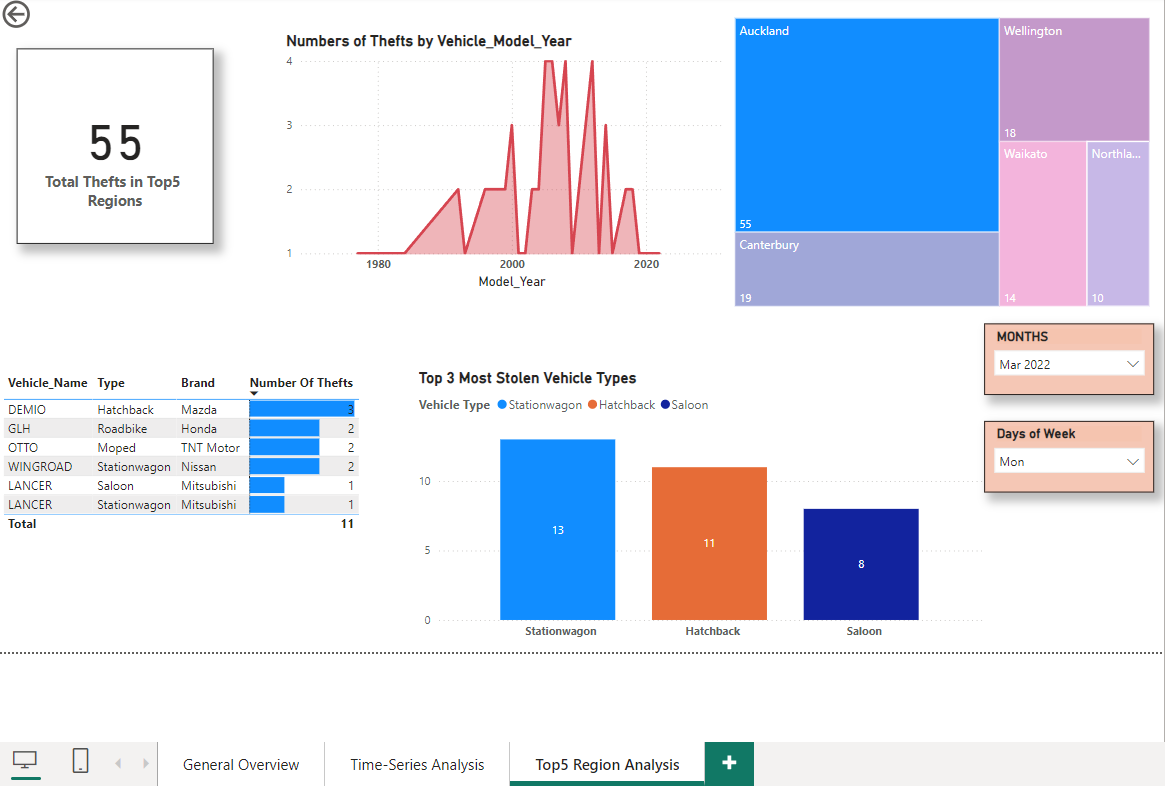

The page's visual inventory and layout, read from the dashboard file:
{"tool":"powerbi","page":{"name":"Top5 Region Analysis","canvas":[1280,720],"ordinal":2},"visuals":[{"type":"treemap","fields":{"Group":["stolen_vehicles_db locations.region"],"Values":["CountNonNull(stolen_vehicles_db stolen_vehicles.vehicle_id)"]},"box":[804.1,19.2,465.2,326.6],"z":0},{"type":"columnChart","title":"Top 3 Most Stolen Vehicle Types","fields":{"Category":["stolen_vehicles_db stolen_vehicles.vehicle_type","stolen_vehicles_db stolen_vehicles.vehicle_desc"],"Y":["CountNonNull(stolen_vehicles_db stolen_vehicles.vehicle_id)"],"Series":["stolen_vehicles_db stolen_vehicles.vehicle_type"]},"box":[456.9,408.9,632.6,306],"z":1000},{"type":"tableEx","fields":{"Values":["stolen_vehicles_db stolen_vehicles.vehicle_desc","stolen_vehicles_db stolen_vehicles.vehicle_type","stolen_vehicles_db make_details.make_name","stolen_vehicles_db stolen_vehicles.Number Of Thefts"]},"box":[0,408.9,403.4,295],"z":2000},{"type":"card","fields":{"Values":["stolen_vehicles_db stolen_vehicles.Number Of Thefts"]},"box":[20,57.1,215.7,214.3],"z":3000},{"type":"slicer","fields":{"Values":["Date.Year Month","Date.Day of Week"]},"box":[1082.7,359.5,186.6,78.2],"z":4000},{"type":"areaChart","fields":{"Category":["stolen_vehicles_db stolen_vehicles.model_year"],"Y":["CountNonNull(stolen_vehicles_db stolen_vehicles.vehicle_id)"]},"box":[311.5,38.4,492.6,288.2],"z":5000},{"type":"actionButton","box":[0,0,100,40],"z":6000},{"type":"slicer","fields":{"Values":["Date.Day of Week"]},"box":[1082.7,466.6,186.6,78.2],"z":6001}]}

Visuals, with their boxes on the page's 1280x720 design canvas (x1, y1, x2, y2). These are canvas units, not pixel positions in the 1165x786 screenshot, which may show the page scaled, cropped or inside an application window:
treemap - stolen_vehicles_db locations.region x CountNonNull(stolen_vehicles_db stolen_vehicles.vehicle_id): box=[804, 19, 1269, 346]
"Top 3 Most Stolen Vehicle Types" columnChart: box=[457, 409, 1090, 715]
tableEx - stolen_vehicles_db stolen_vehicles.vehicle_desc x stolen_vehicles_db stolen_vehicles.vehicle_type: box=[0, 409, 403, 704]
card - stolen_vehicles_db stolen_vehicles.Number Of Thefts: box=[20, 57, 236, 271]
slicer - Date.Year Month x Date.Day of Week: box=[1083, 360, 1269, 438]
areaChart - stolen_vehicles_db stolen_vehicles.model_year x CountNonNull(stolen_vehicles_db stolen_vehicles.vehicle_id): box=[312, 38, 804, 327]
actionButton: box=[0, 0, 100, 40]
slicer - Date.Day of Week: box=[1083, 467, 1269, 545]
